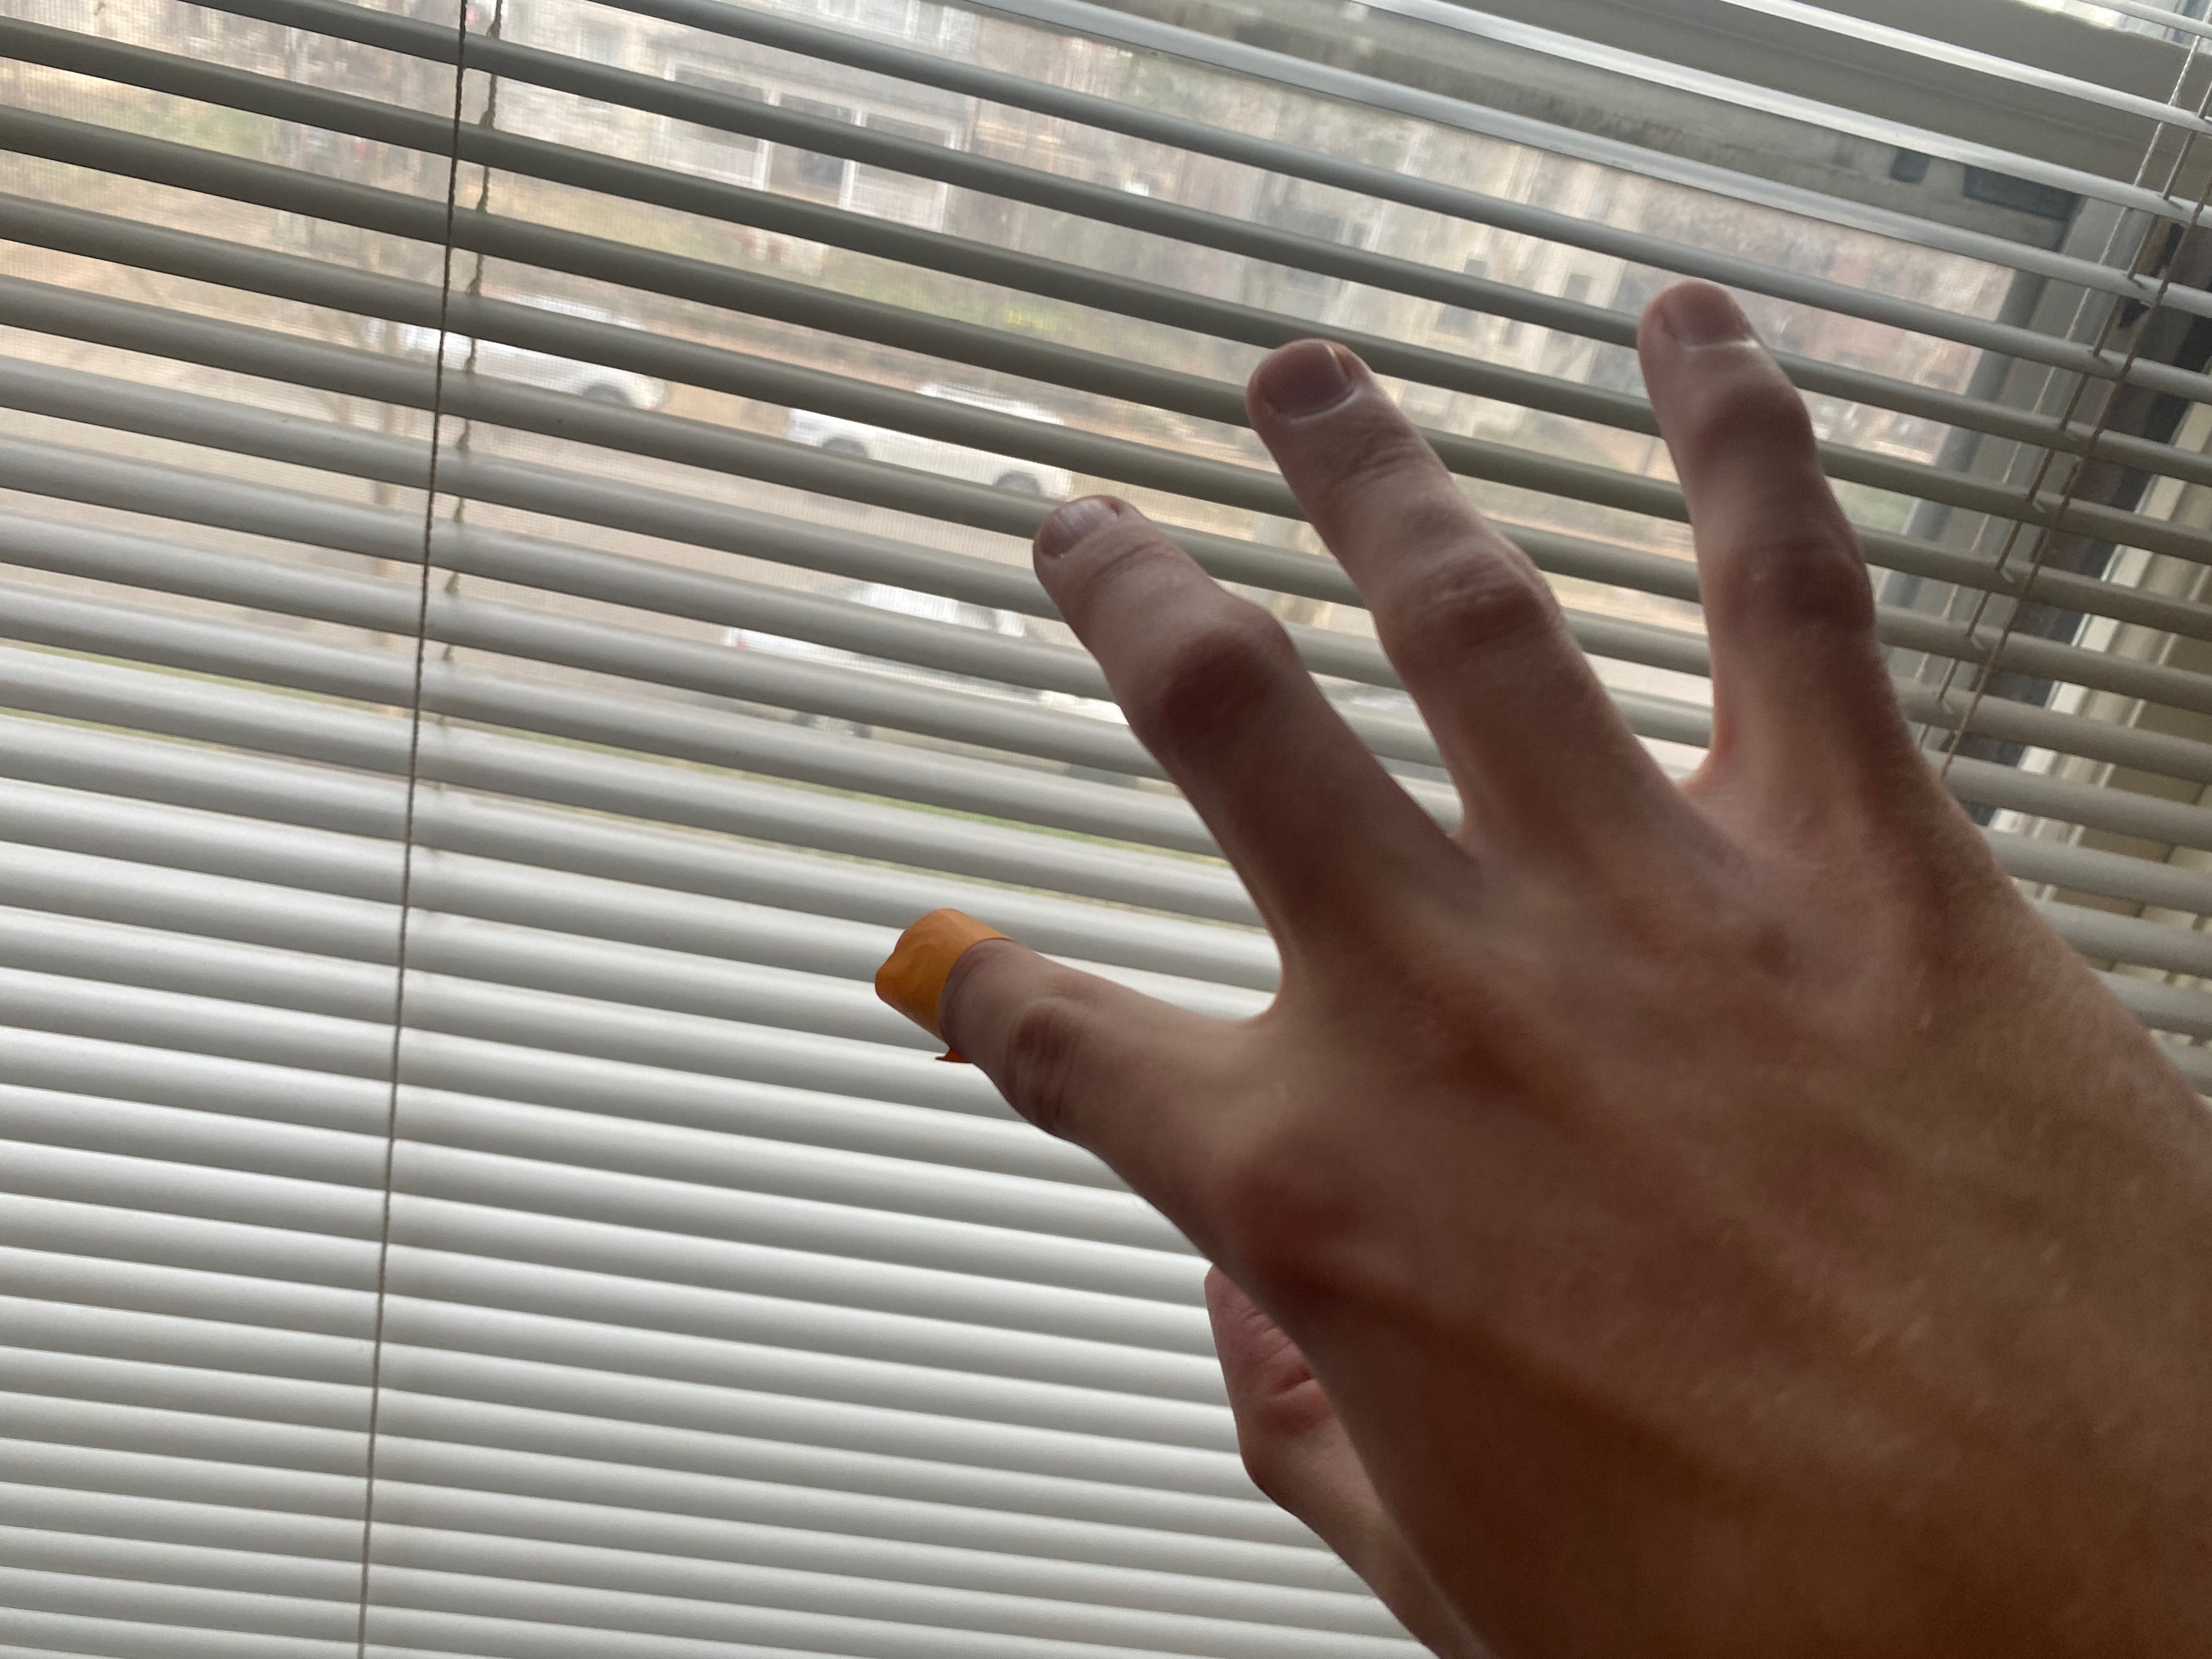fingertip: (862, 897, 1108, 1077)
